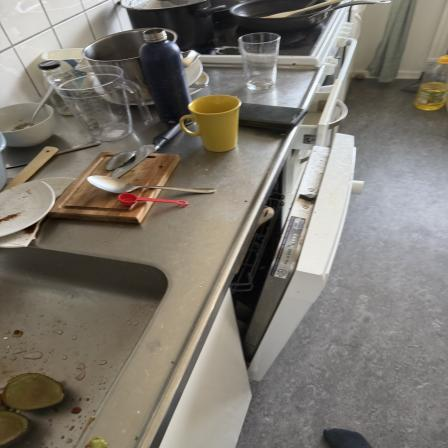blue_bottle: (136, 28, 194, 122)
phone: (205, 97, 311, 134)
yellow_cup: (181, 93, 245, 153)
